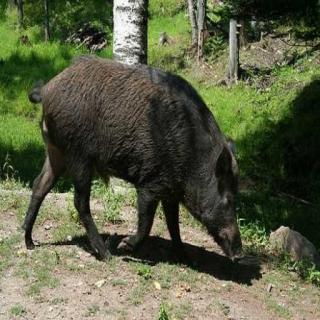Pig: (8, 42, 242, 279)
